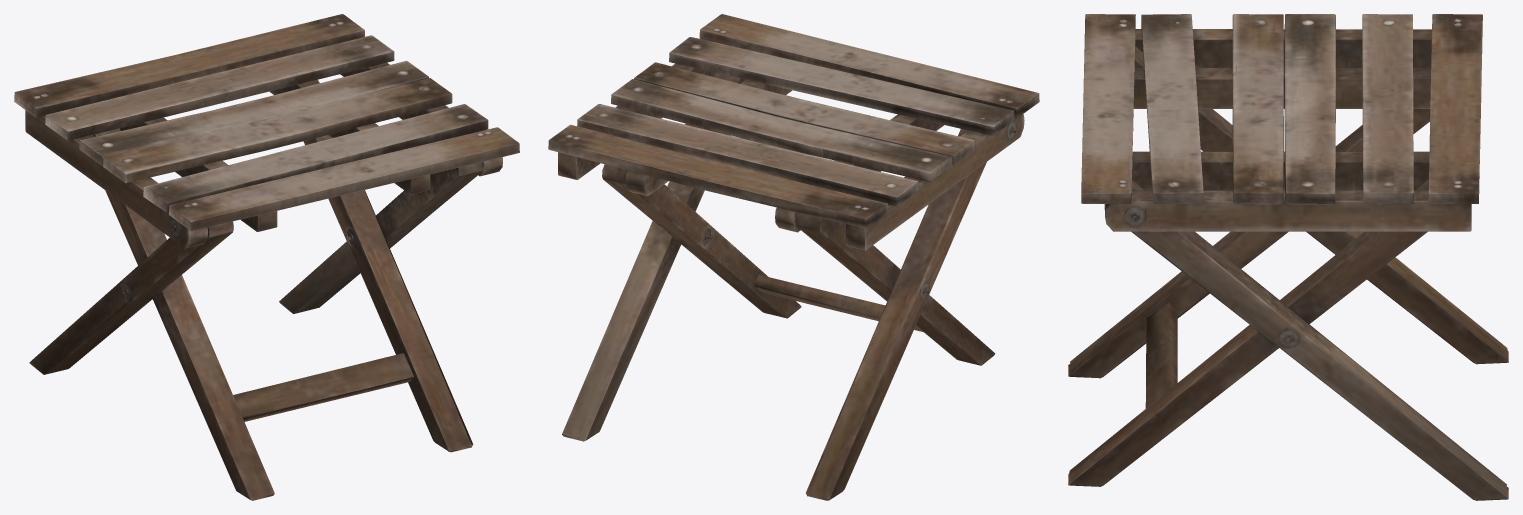
File: ph_folding_wooden_stool.glb
3 renders of one model, left to right at view 1: azimuth 30°, elevation 25°; view 2: azimuth 150°, elevation 25°; view 3: azimuth 270°, elevation 25°, orthographic. The views are drawn at different scales.
Visible parts, largest first — view 1: folding_wooden_stool; view 2: folding_wooden_stool; view 3: folding_wooden_stool.
Boxes of the visible parts, bbox=[...] form: folding_wooden_stool: bbox=[14, 14, 519, 500]; folding_wooden_stool: bbox=[548, 14, 1039, 500]; folding_wooden_stool: bbox=[1068, 14, 1508, 500].
Bounding box in the file's own units: 0.5268 × 0.441 × 0.5461.
Materials: 1 (1 with a texture image).
